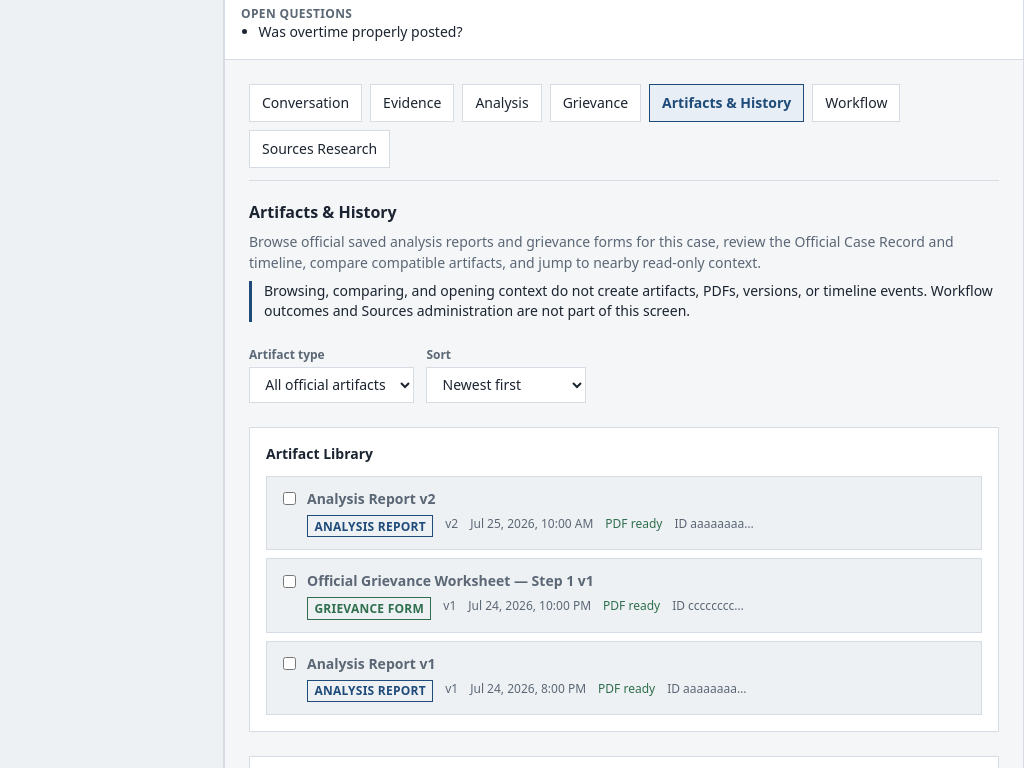
W6 M7 Artifacts & History › renders analysis and grievance artifacts and filters by type
(page scrolled)
Check: the text "Analysis Report v1" is shown, box [307,654,436,674]
Check: the text "Official Grievance Worksheet — Step 1 v1" is shown, box [307,572,594,592]
Select "Analysis reports" in the dropdown labelled "Artifact type" at x=332, y=385, box [249,367,414,403]
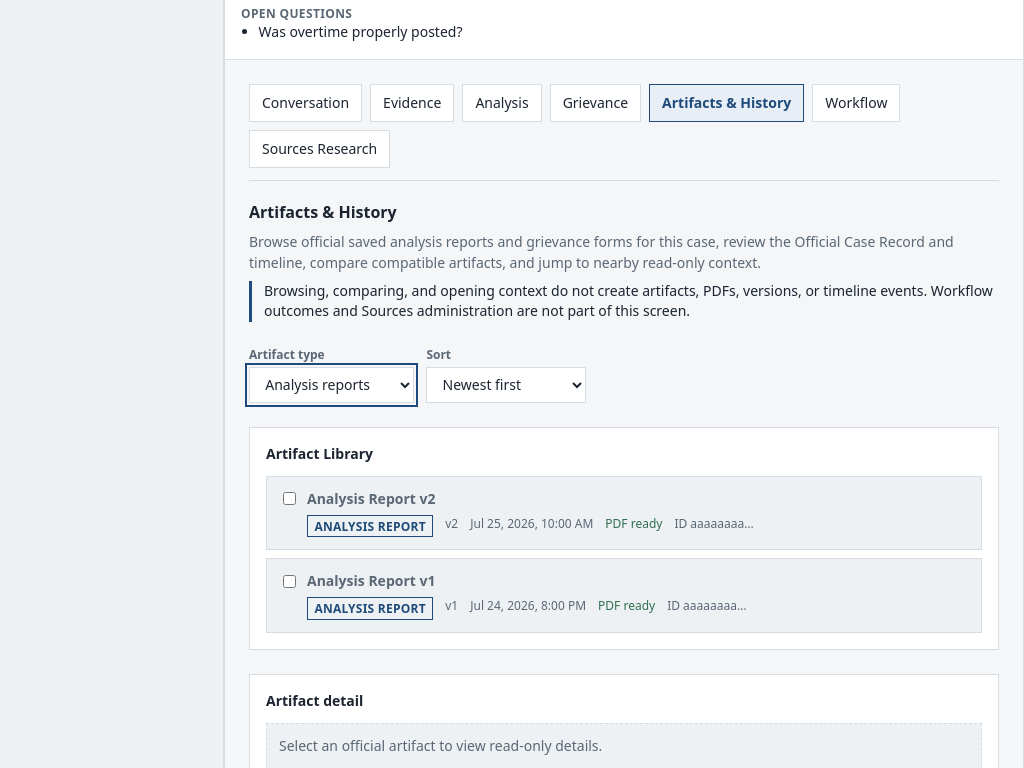
Check: the text "Analysis Report v1" is shown, box [307,572,436,592]
Check: the button "Official Grievance Worksheet — Step 1 v1" is gone
